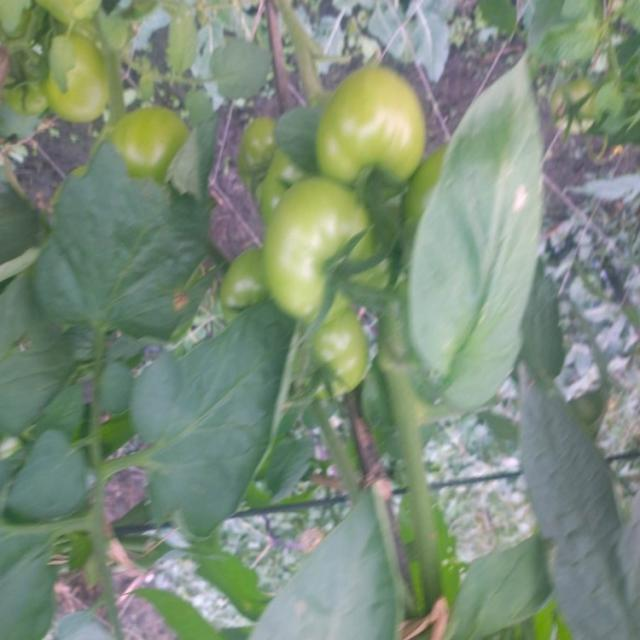tomato: (259, 162, 388, 310), (312, 46, 428, 198), (83, 98, 189, 191), (214, 230, 302, 325), (44, 32, 111, 135), (324, 302, 381, 398), (237, 143, 306, 221), (400, 133, 442, 230), (1, 56, 49, 135), (236, 113, 279, 194)
